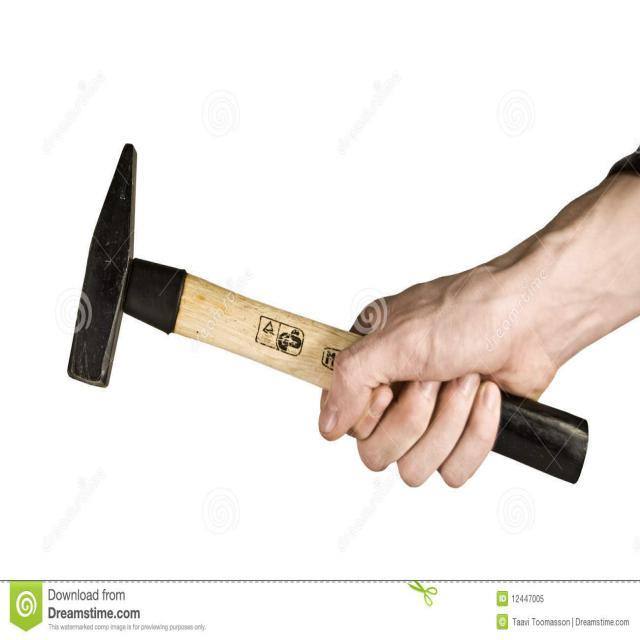hammer: (62, 138, 592, 494)
